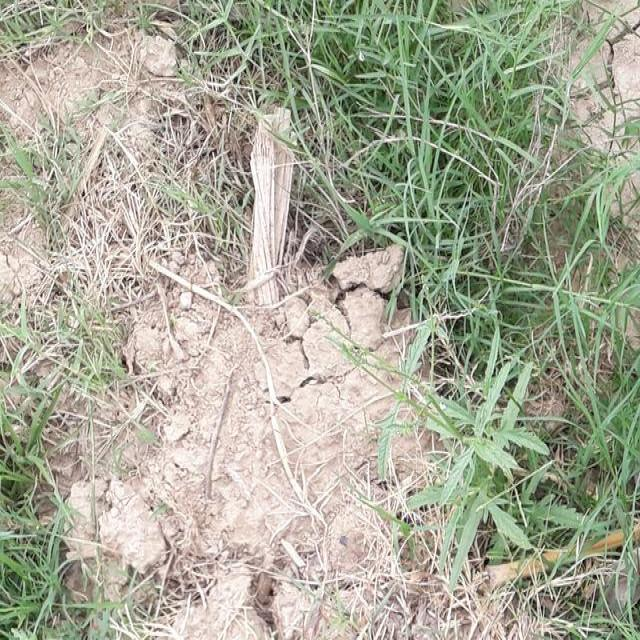weed: (166, 20, 640, 251), (399, 260, 640, 640)
